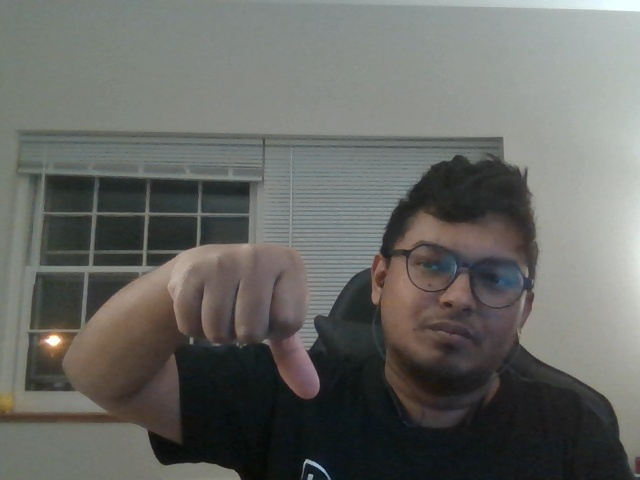yes: (147, 222, 347, 415)
